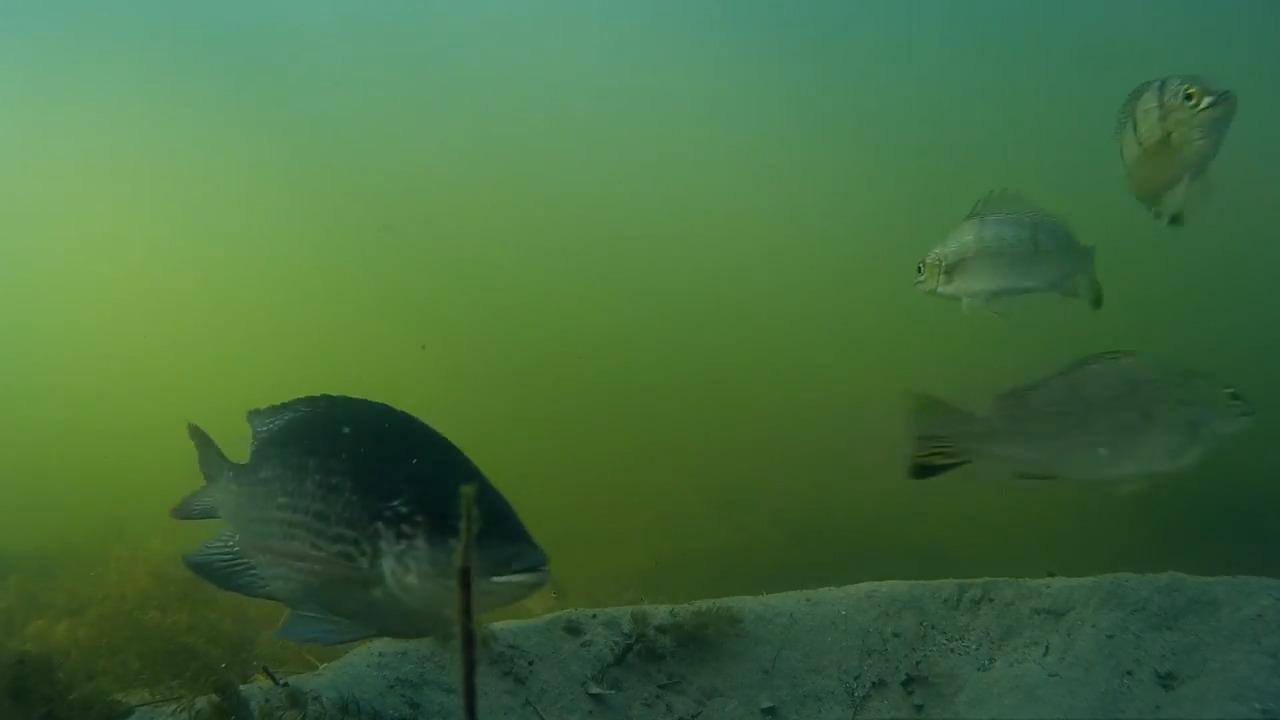Tilapia: (140, 394, 575, 658), (885, 330, 1264, 528), (895, 174, 1112, 326), (1119, 62, 1262, 232)
